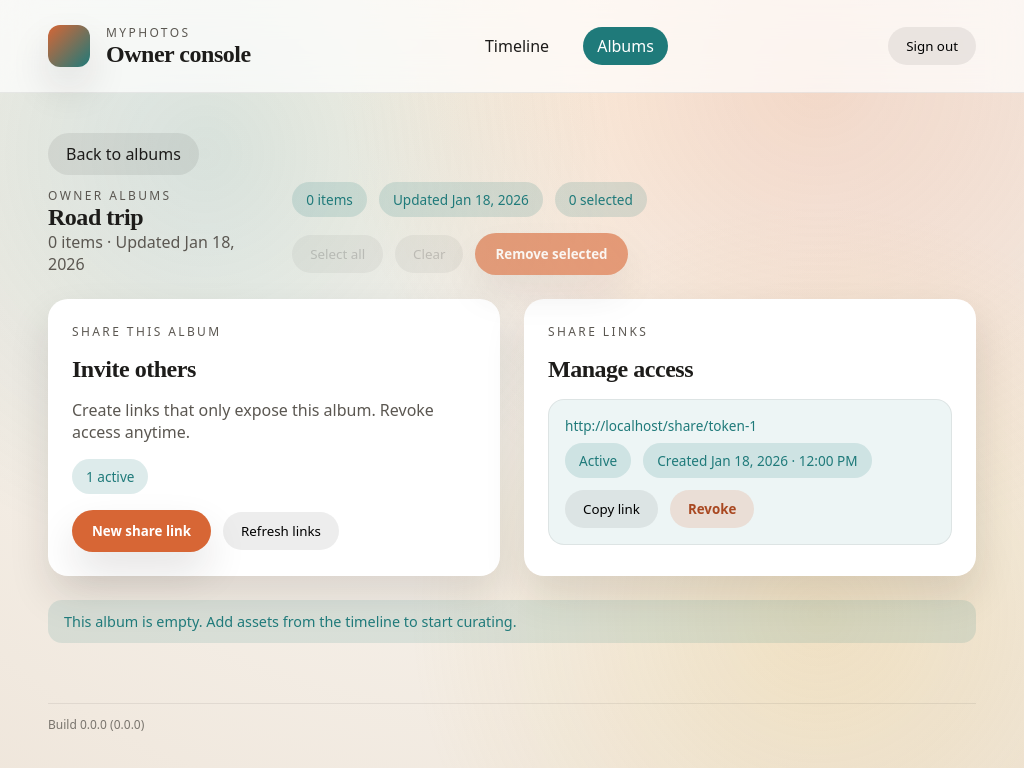
Test case: App flows › creates and revokes share links from album detail
Expected: the heading "Manage access" is shown, [548,356,693,382]
Expected: the text "http://localhost/share/token-1" is shown, [565,416,757,435]
Click the button "New share link": click(142, 531) [72,510,211,552]
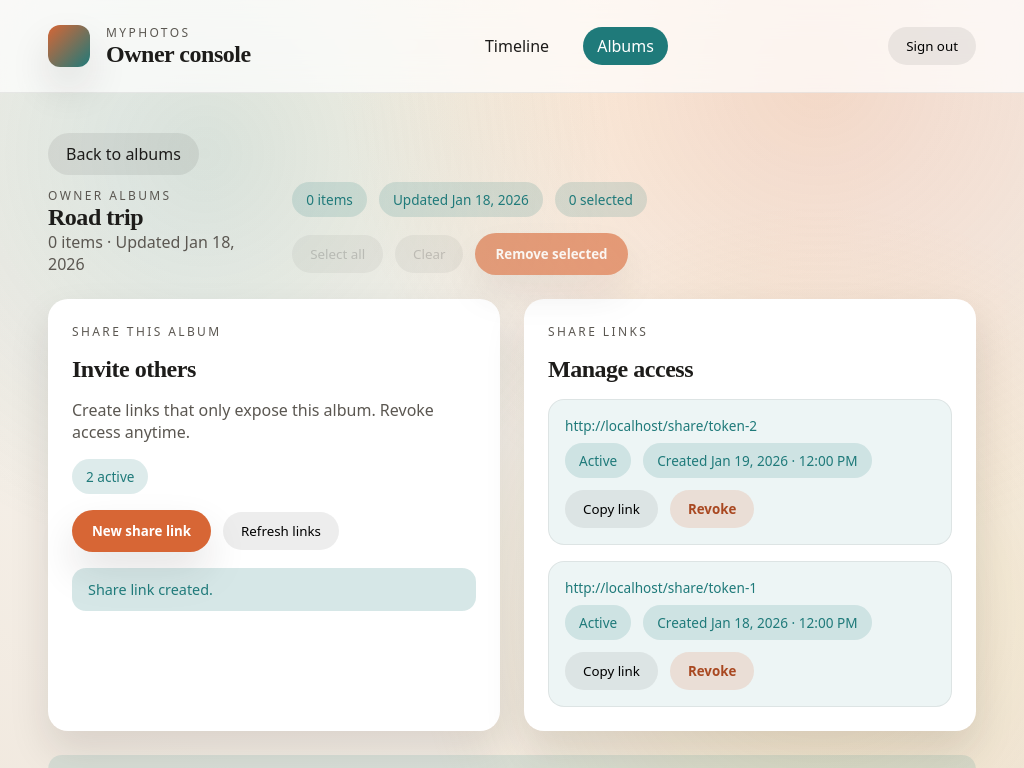
Expected: the text "http://localhost/share/token-2" is shown, [565,416,757,435]
Click the button "Copy link" below "Jan 19, 2026 · 12:00 PM": click(611, 509) [565,490,658,528]
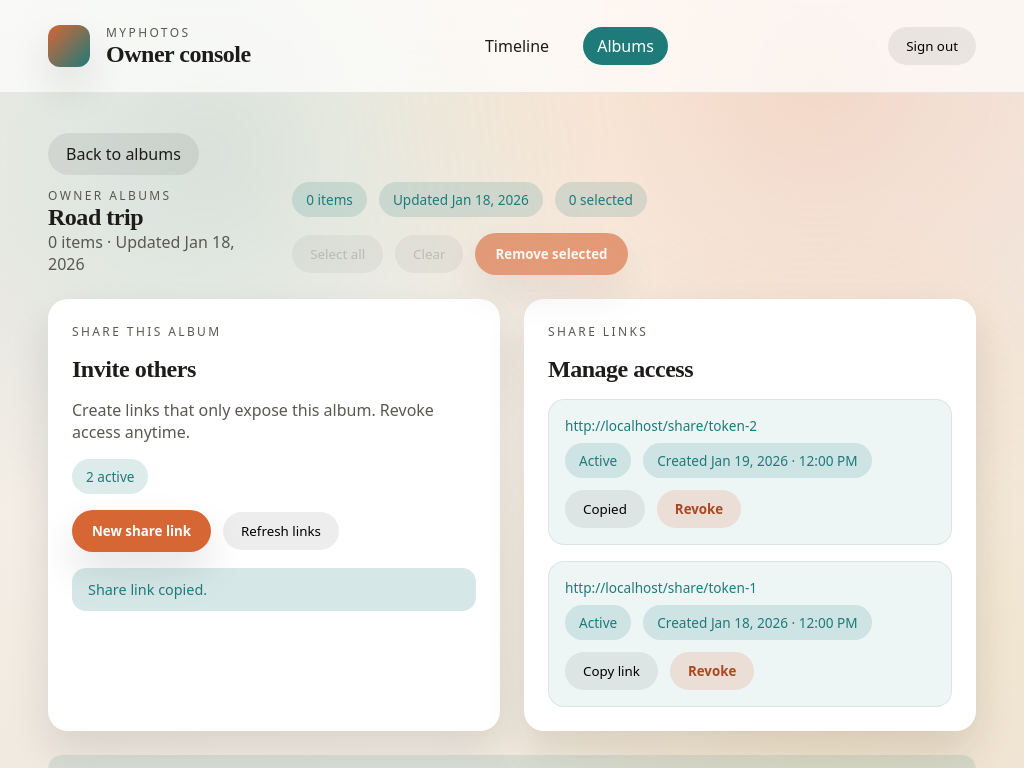
Click the button "Revoke" below "Jan 18, 2026 · 12:00 PM": click(712, 671) [670,652,754,690]
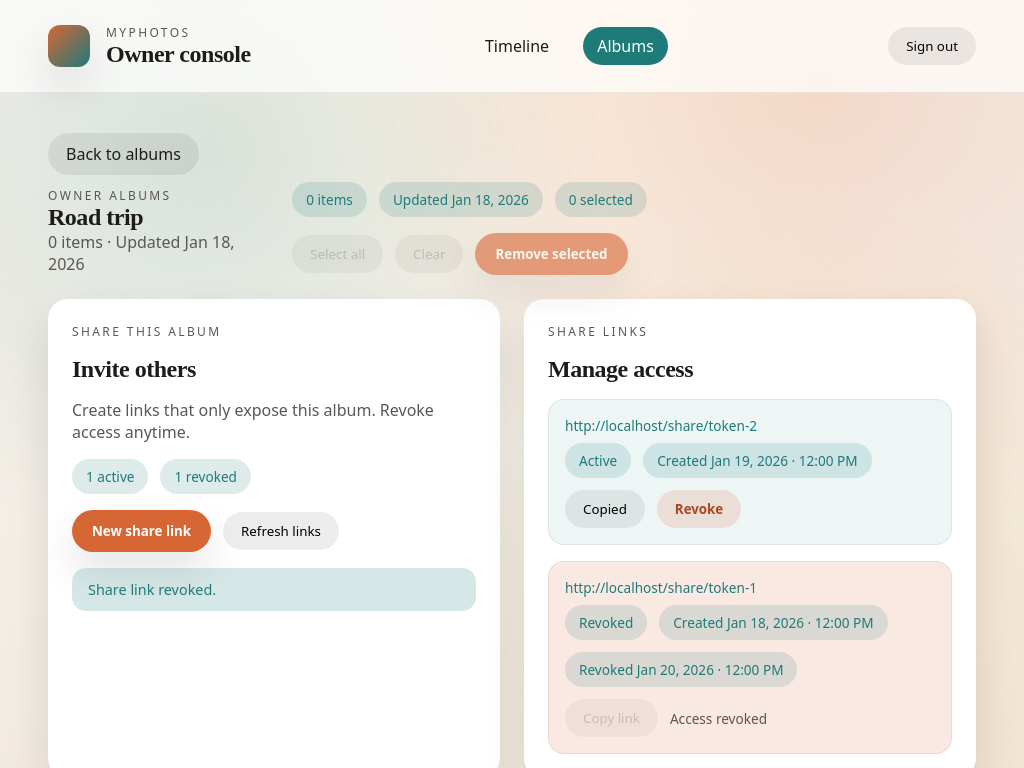
Expected: the text "Access revoked" is shown, [670,708,767,728]
